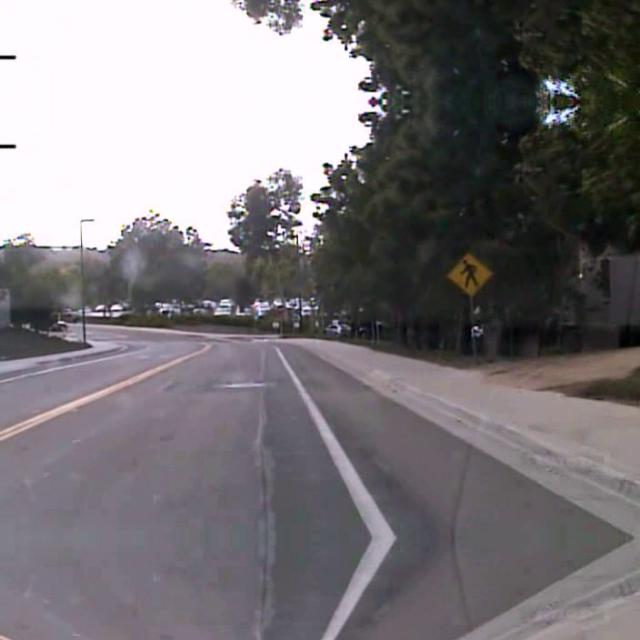pedestrianCrossing: (445, 248, 493, 296)
